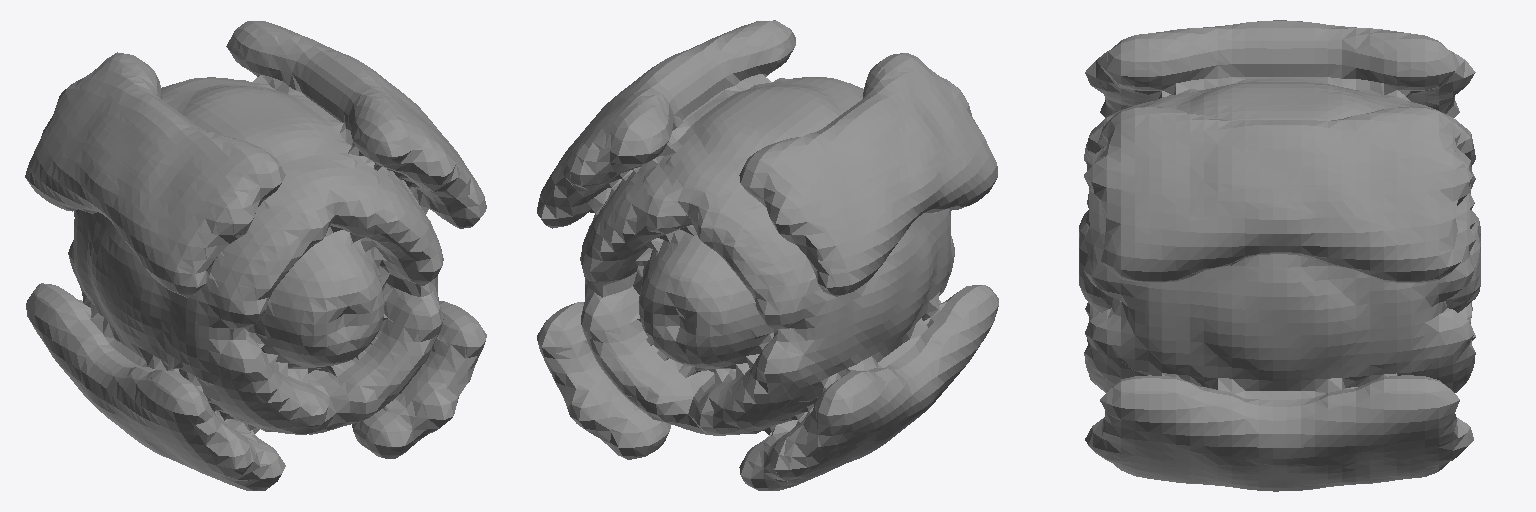
URDF robot description (cube.urdf):
<?xml version="0.0" ?> 
<robot name="cube.urdf"> 
<link name="legobrick"> 
<contact> 
<lateral_friction value="5.0"/> 
<rolling_friction value="0.0"/> 
<contact_cfm value="0.0"/> 
<contact_erp value="1.0"/> 
</contact> 
<inertial> 
<origin rpy="0 0 0" xyz="0.0 0.0 0.0"/> 
<mass value=".01"/> 
<inertia ixx="1" ixy="0" ixz="0" iyy="1" iyz="0" izz="1"/> 
</inertial> 
<visual> 
<origin rpy="1.570796 0 0" xyz="-0.026237134090384105 0.02621662558433045 -0.02624973762079173"/> 
<geometry> 
<mesh filename="H20_3.obj" scale="0.0006972023318454892 0.0006972023318454892 0.0006972023318454892"/> 
</geometry> 
<material name="yellow"> 
<color rgba="0.6 0.6 0.6 1"/> 
</material> 
</visual> 
<collision> 
<origin rpy="1.570796 0 0" xyz="-0.026237134090384105 0.02621662558433045 -0.02624973762079173"/> 
<geometry> 
<mesh filename="H20_3.obj" scale="0.0006972023318454892 0.0006972023318454892 0.0006972023318454892"/> 
</geometry> 
</collision> 
</link> 
</robot>

--- Facts derived from the render (not from the file) ---
Views: 3 orthographic renders of the robot side by side, from view 1: azimuth 30°, elevation 25°; view 2: azimuth 150°, elevation 25°; view 3: azimuth 270°, elevation 25°.
Model cube.urdf with 1 links and 0 joints (none), rooted at legobrick, posed all joints at 0.
Visible links, largest first — view 1: legobrick; view 2: legobrick; view 3: legobrick.
Link boxes in pixels (box(x1,y1,x2,y2)): legobrick: box(25, 21, 486, 490); legobrick: box(537, 20, 998, 490); legobrick: box(1079, 20, 1480, 491).
Size in the robot's own frame: 0.0562 by 0.0558 by 0.056 metres.
Meshes: 1 distinct files referenced, 1 mesh visuals loaded (1 OBJ).
